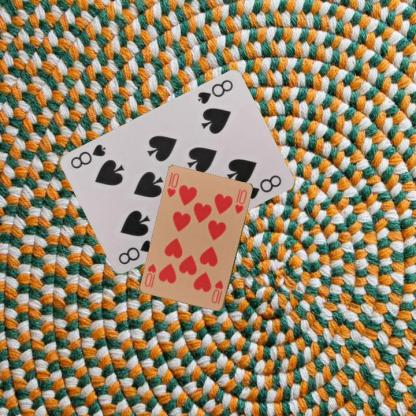10h: (209, 278, 225, 306), (164, 171, 180, 199)
8s: (115, 237, 155, 266), (195, 77, 234, 106)
